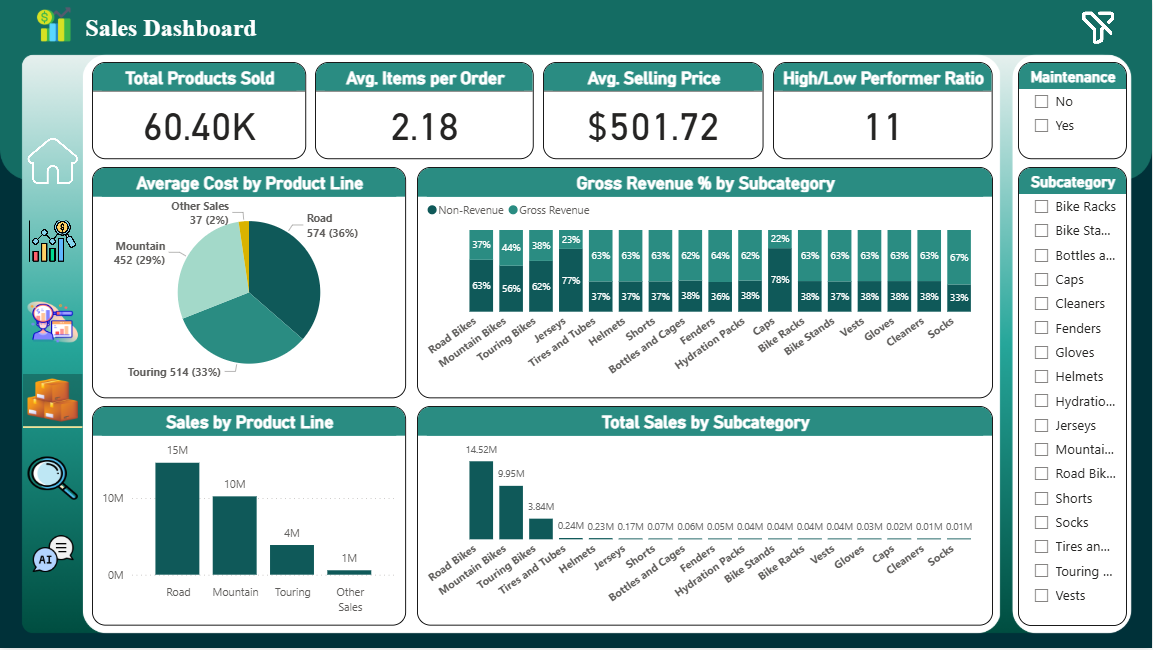

This screenshot's page, from the dashboard's own definition file:
{"tool":"powerbi","page":{"name":"Product Insights","canvas":[1280,720],"ordinal":3},"visuals":[{"type":"textbox","title":"Sales Dashboard","box":[82.2,15.6,215.6,38.9],"z":0,"group":"g1"},{"type":"card","title":"Total Products Sold","fields":{"Values":["Sum(gold report_products.total_quantity)"]},"box":[102.1,69.1,238.3,108],"z":0},{"type":"image","box":[27.8,0,63.3,54.4],"z":1000,"group":"g1"},{"type":"card","title":"Avg. Selling Price","fields":{"Values":["gold fact_sales.Avg. Selling_Price"]},"box":[603,69,245,108],"z":1000},{"type":"card","title":"Avg. Items per Order","fields":{"Values":["gold report_products.Avg. Orderitem_per_order"]},"box":[350,69,243,108],"z":2000},{"type":"card","title":"High/Low Performer Ratio","fields":{"Values":["gold report_products.HL Performer_Ratio"]},"box":[859,69,244,108],"z":3000},{"type":"columnChart","title":"Sales by Product Line","fields":{"Category":["gold dim_products.product_line"],"Y":["Sum(gold fact_sales.sales_amount)"]},"box":[102.2,451.1,348.9,244.4],"z":4000},{"type":"pieChart","title":"Average Cost by Product Line","fields":{"Category":["gold dim_products.product_line"],"Y":["Avg(gold dim_products.cost)"]},"box":[101.9,185.6,348.9,256.7],"z":5000},{"type":"slicer","title":"Maintenance","fields":{"Values":["gold dim_products.maintenance"]},"box":[1131.2,69.1,120.6,108],"z":6000},{"type":"group","id":"g1","title":"Group 1","box":[27.8,0,270,54.4],"z":7000},{"type":"hundredPercentStackedColumnChart","title":"Gross Revenue % by Subcategory","fields":{"Category":["gold report_products.subcategory"],"Y":["gold report_products.other","gold report_products.Revenue"]},"box":[463,185.8,640,256.8],"z":8000},{"type":"columnChart","title":"Total Sales by Subcategory","fields":{"Category":["gold report_products.subcategory"],"Y":["Sum(gold report_products.total_sales)"]},"box":[463,451.3,640,244.1],"z":9000},{"type":"slicer","title":"Subcategory","fields":{"Values":["gold report_products.subcategory"]},"box":[1131.2,185.8,120.6,509.7],"z":10000},{"type":"image","box":[1191,8,58,46],"z":11000},{"type":"image","box":[25,328,66,60],"z":12000},{"type":"image","box":[25,416,66,58],"z":13000},{"type":"shape","box":[25,465,66,18],"z":14000},{"type":"image","box":[25,502,66,58],"z":15000},{"type":"image","box":[25,587,66,57],"z":16000},{"type":"image","box":[25,148,66,62],"z":17000},{"type":"image","box":[25,240,66,56],"z":18000}]}

Visuals, with their boxes in screenshot pixels (x1, y1, x2, y2), scaled from the page's 1280x720 canvas onto the 1153x650 screenshot:
"Sales Dashboard" textbox: (left=74, top=14, right=268, bottom=49)
"Total Products Sold" card: (left=92, top=62, right=307, bottom=160)
image: (left=25, top=0, right=82, bottom=49)
"Avg. Selling Price" card: (left=543, top=62, right=764, bottom=160)
"Avg. Items per Order" card: (left=315, top=62, right=534, bottom=160)
"High/Low Performer Ratio" card: (left=774, top=62, right=994, bottom=160)
"Sales by Product Line" columnChart: (left=92, top=407, right=406, bottom=628)
"Average Cost by Product Line" pieChart: (left=92, top=168, right=406, bottom=399)
"Maintenance" slicer: (left=1019, top=62, right=1128, bottom=160)
"Group 1" group: (left=25, top=0, right=268, bottom=49)
"Gross Revenue % by Subcategory" hundredPercentStackedColumnChart: (left=417, top=168, right=994, bottom=400)
"Total Sales by Subcategory" columnChart: (left=417, top=407, right=994, bottom=628)
"Subcategory" slicer: (left=1019, top=168, right=1128, bottom=628)
image: (left=1073, top=7, right=1125, bottom=49)
image: (left=23, top=296, right=82, bottom=350)
image: (left=23, top=376, right=82, bottom=428)
shape: (left=23, top=420, right=82, bottom=436)
image: (left=23, top=453, right=82, bottom=506)
image: (left=23, top=530, right=82, bottom=581)
image: (left=23, top=134, right=82, bottom=190)
image: (left=23, top=217, right=82, bottom=267)
